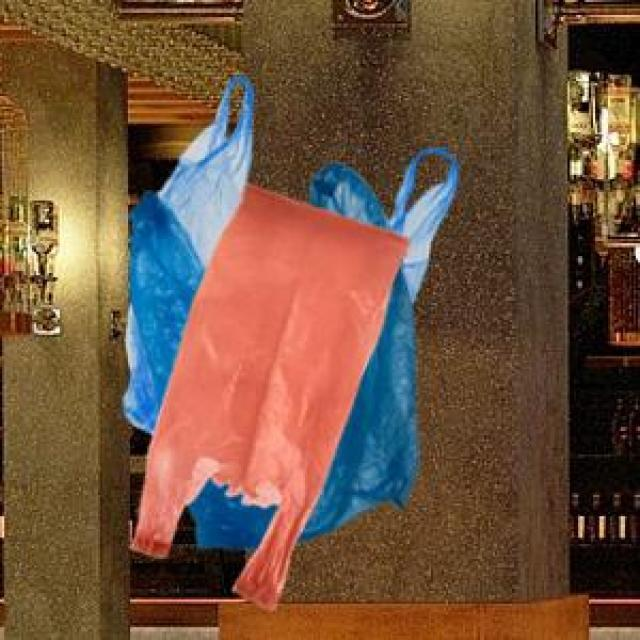waste: (124, 75, 459, 608)
